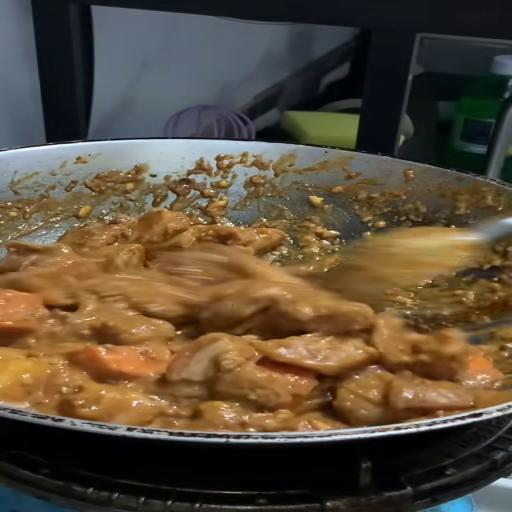pork caldereta: (0, 213, 512, 422)
